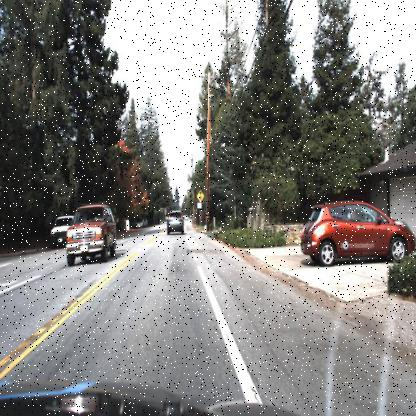car: (300, 199, 415, 266), (67, 204, 118, 266), (49, 213, 75, 247), (164, 207, 185, 237)
